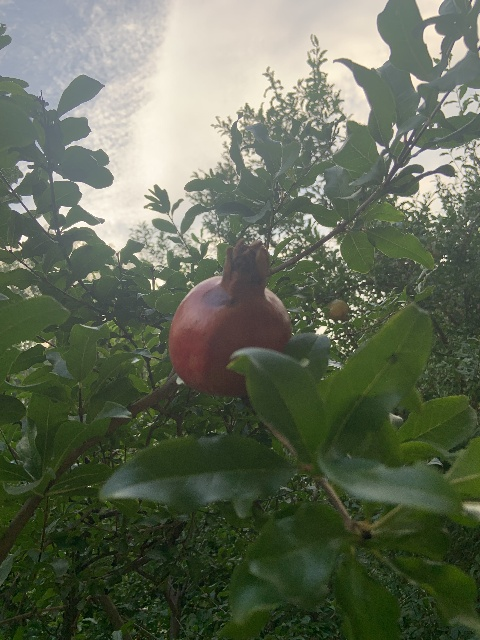mid-growth: (325, 299, 349, 321)
ripe: (167, 237, 291, 397)
